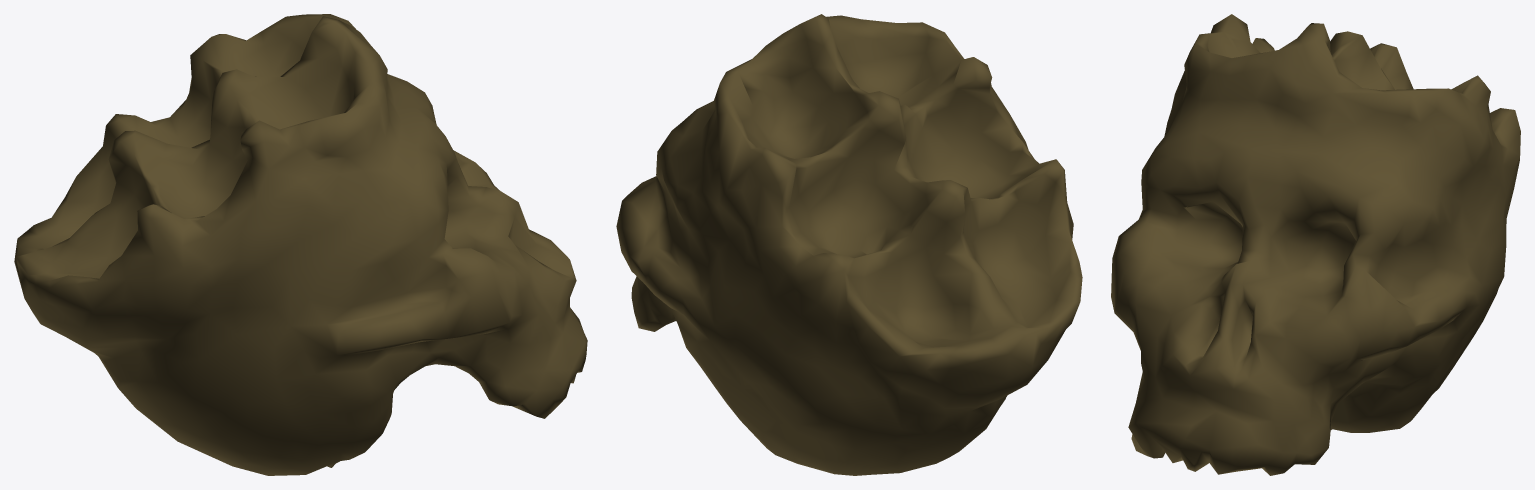
3 views of the same model, side by side, from view 1: azimuth 30°, elevation 25°; view 2: azimuth 150°, elevation 25°; view 3: azimuth 270°, elevation 25° (orthographic).
Parts seen in each view (by area): view 1: 20250206_145107_mesh; view 2: 20250206_145107_mesh; view 3: 20250206_145107_mesh.
Part boxes in pixels (x1,y1,x2,y2): 20250206_145107_mesh: (14, 14, 587, 475); 20250206_145107_mesh: (616, 14, 1082, 475); 20250206_145107_mesh: (1111, 14, 1520, 475).
Size of the model in its own units: 1.85 by 1.57 by 1.38.
